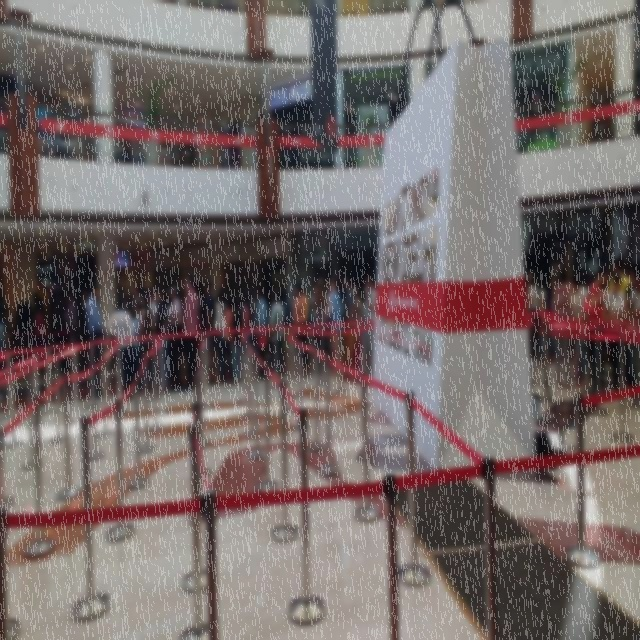pessoa: (0, 289, 70, 354), (602, 272, 637, 400), (105, 294, 135, 404), (551, 267, 575, 390), (589, 264, 610, 396), (85, 280, 106, 400), (311, 276, 335, 380), (570, 271, 591, 389), (179, 272, 199, 394), (152, 284, 170, 398), (624, 263, 640, 389), (359, 272, 377, 378), (166, 283, 183, 393), (137, 290, 154, 398), (266, 288, 284, 382), (327, 274, 343, 378), (252, 280, 268, 384), (212, 286, 228, 388), (0, 300, 16, 402), (559, 246, 604, 282), (294, 284, 310, 378), (341, 273, 356, 368), (76, 287, 92, 373), (205, 278, 217, 386), (545, 273, 559, 365), (228, 293, 242, 385), (224, 294, 236, 385), (44, 126, 70, 168), (608, 256, 632, 296), (152, 290, 161, 395), (352, 282, 362, 369), (526, 268, 540, 329), (57, 123, 75, 169), (128, 130, 150, 166), (132, 299, 142, 378), (62, 288, 78, 336), (114, 268, 130, 311), (242, 290, 254, 346), (326, 278, 334, 360), (30, 301, 46, 338), (196, 293, 208, 332), (130, 281, 142, 320), (292, 282, 302, 328), (241, 284, 256, 314), (281, 286, 292, 326), (147, 286, 157, 330), (536, 273, 546, 312), (622, 256, 633, 278), (297, 0, 312, 16), (310, 286, 318, 300), (372, 275, 378, 293)
